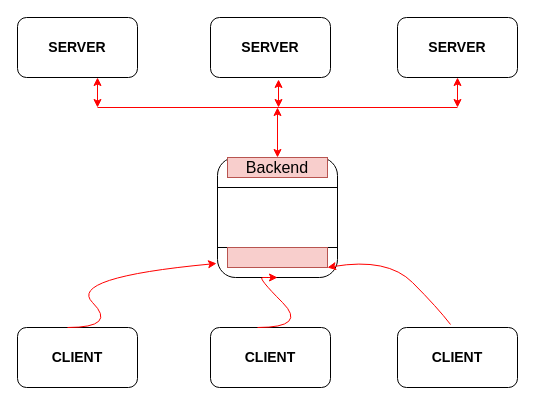
Image size: 535x405. Some labels were removed from this diagram. The box of each missing label's shape, as (x1, y1, x2, y2) in pixels:
Frontend: (226, 246, 328, 268)
PROXY: (216, 156, 338, 278)
